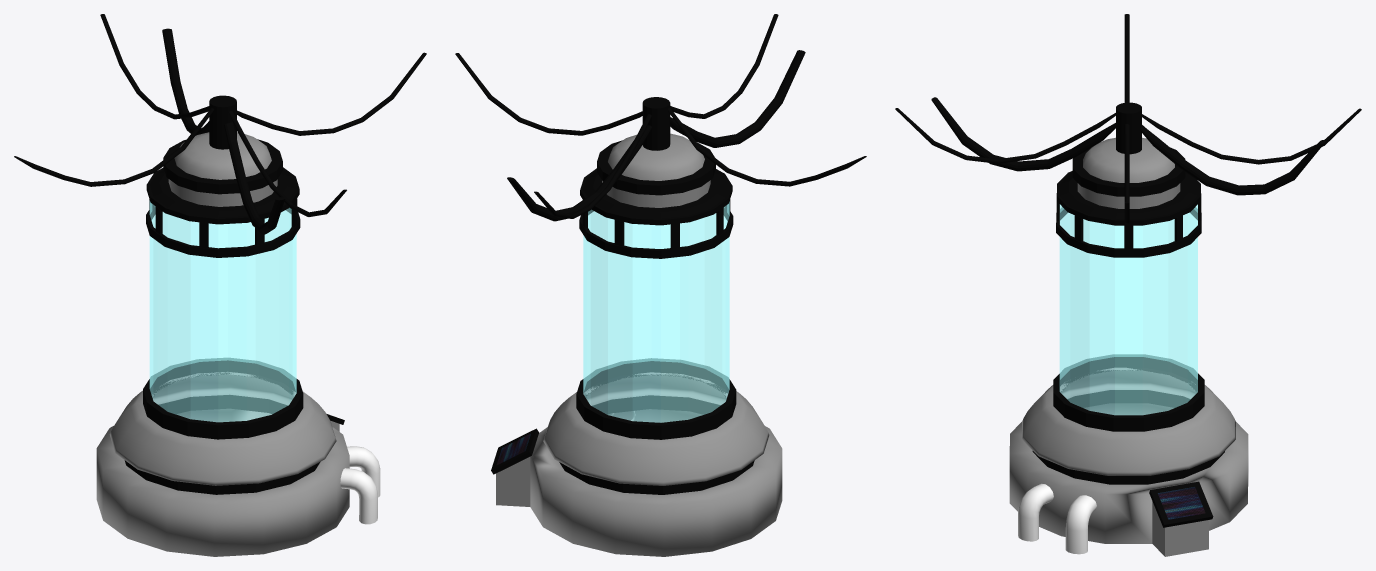
Rendered from incubator.fbx.
3 renders of one model, left to right at view 1: azimuth 30°, elevation 25°; view 2: azimuth 150°, elevation 25°; view 3: azimuth 270°, elevation 25°, orthographic. The views are drawn at different scales.
Parts seen in each view (by area): view 1: Plane.001, Plane.003, Plane.006, Plane.005, Plane.002, Plane.004, Plane; view 2: Plane.001, Plane.003, Plane.002, Plane.006, Plane.005, Plane, Plane.004; view 3: Plane.001, Plane.002, Plane.003, Plane.004, Plane, Plane.005.
Part boxes in pixels (left/top/right/bottom): Plane.001: left=96, top=95, right=380, bottom=556; Plane.003: left=224, top=122, right=285, bottom=234; Plane.006: left=14, top=107, right=214, bottom=186; Plane.005: left=237, top=52, right=426, bottom=135; Plane.002: left=162, top=28, right=209, bottom=135; Plane.004: left=228, top=111, right=346, bottom=216; Plane: left=100, top=14, right=209, bottom=119; Plane.001: left=491, top=97, right=782, bottom=556; Plane.003: left=670, top=50, right=805, bottom=147; Plane.002: left=507, top=125, right=651, bottom=221; Plane.006: left=668, top=107, right=866, bottom=186; Plane.005: left=455, top=53, right=642, bottom=135; Plane: left=534, top=114, right=651, bottom=218; Plane.004: left=670, top=14, right=778, bottom=118; Plane.001: left=1009, top=102, right=1248, bottom=556; Plane.002: left=1140, top=125, right=1325, bottom=195; Plane.003: left=931, top=97, right=1116, bottom=171; Plane.004: left=895, top=108, right=1115, bottom=163; Plane: left=1142, top=108, right=1361, bottom=164; Plane.005: left=1124, top=124, right=1129, bottom=224.
Size of the model in its own units: 375 by 350 by 384.
Materials: 8 (1 with a texture image).
